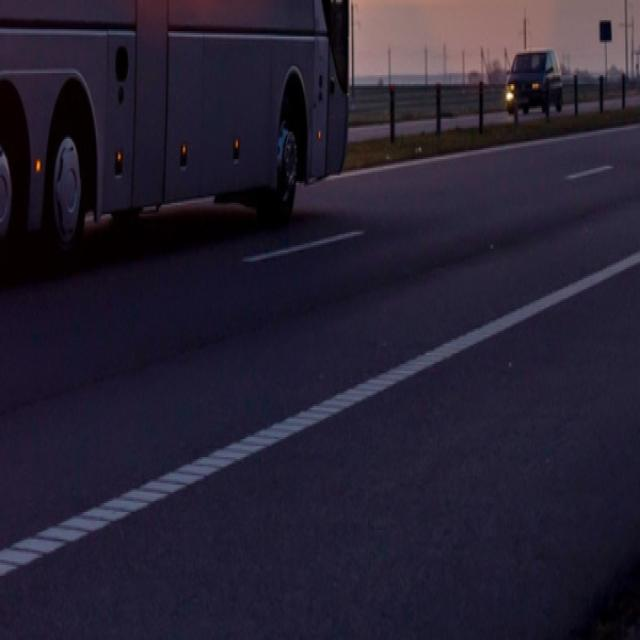bus: (0, 0, 375, 269)
car: (505, 48, 565, 118)
